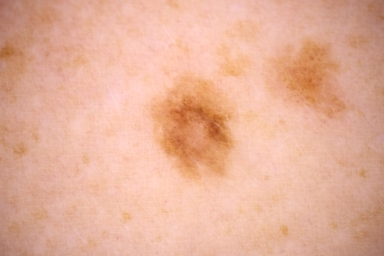melanoma: (151, 79, 231, 186), (268, 42, 346, 114)
